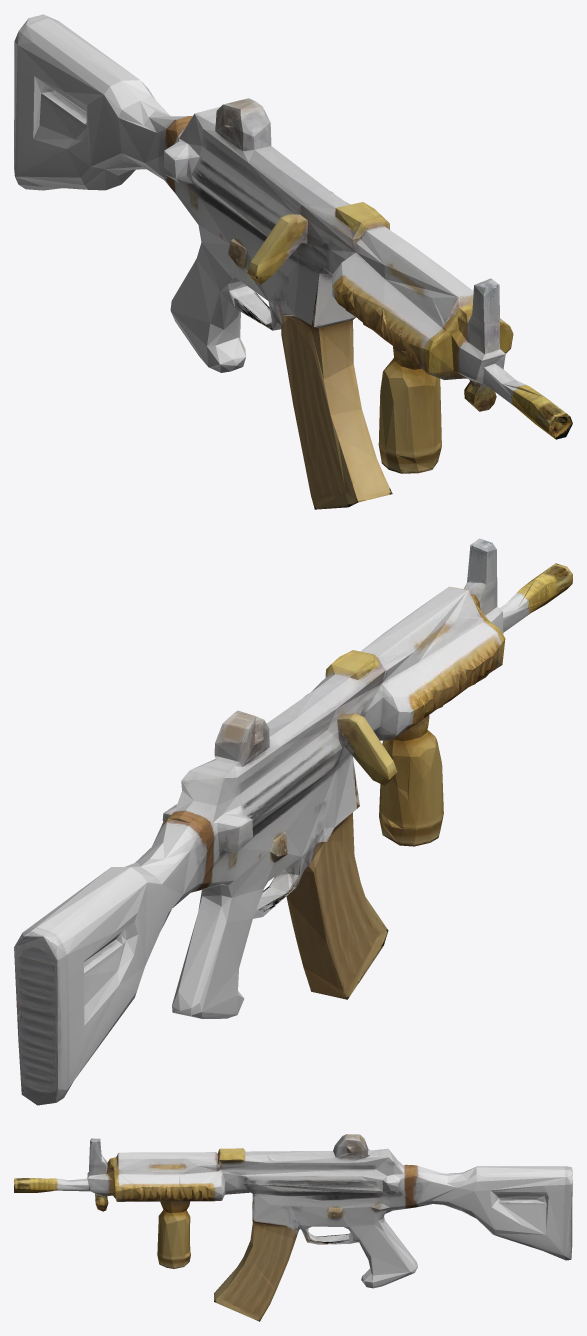
The model's file is white_mp5k.glb.
The picture shows the model from 3 angles, top to bottom: view 1: azimuth 30°, elevation 25°; view 2: azimuth 150°, elevation 25°; view 3: azimuth 270°, elevation 25°; orthographic projection. The views are drawn at different scales.
Visible parts, largest first — view 1: geometry_0; view 2: geometry_0; view 3: geometry_0.
Boxes of the visible parts, x1,y1,x2,y2 form: geometry_0: [14, 14, 572, 509]; geometry_0: [14, 538, 572, 1105]; geometry_0: [14, 1134, 572, 1321].
Bounding box in the file's own units: 0.1355 × 0.3576 × 1.
1 material, 1 textured.
